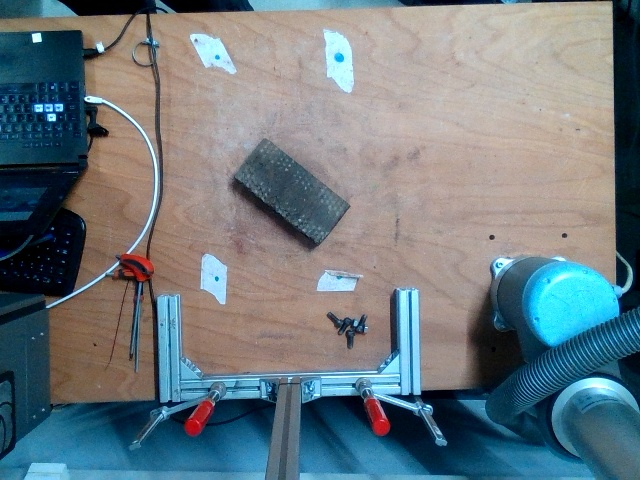brick: (233, 136, 350, 243)
